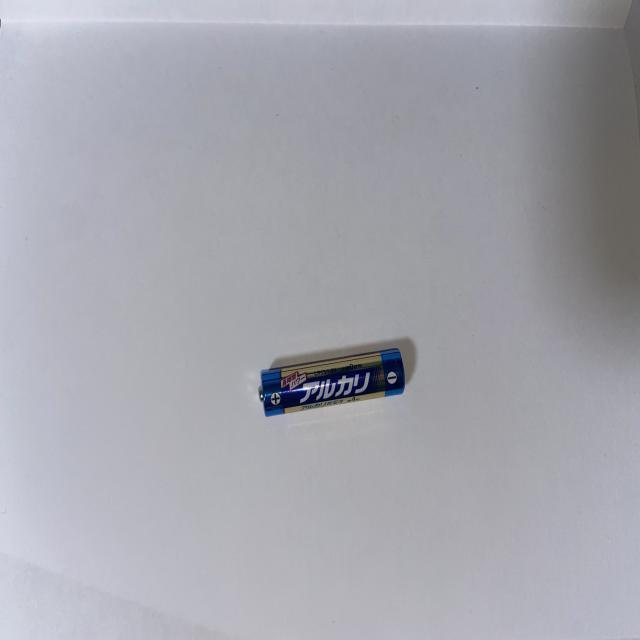Hazard: (256, 344, 406, 419)
